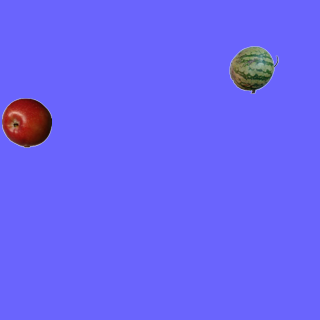Apple Braeburn: (1, 97, 51, 147)
Watermelon: (228, 44, 278, 94)
